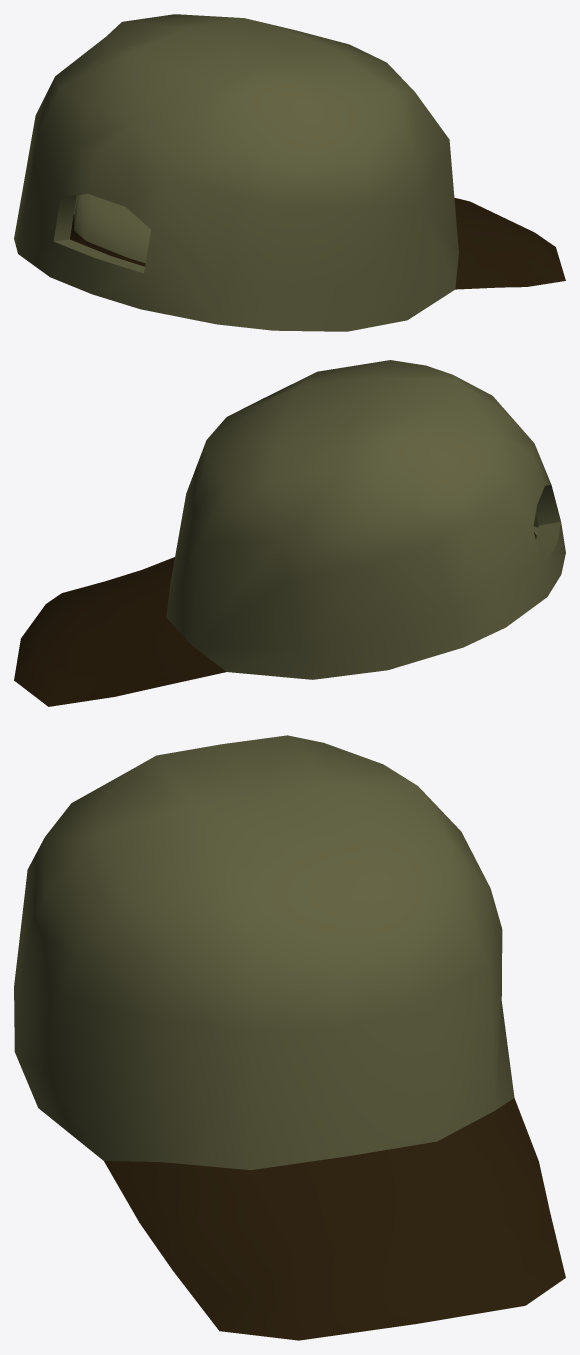
Rendered from cap_sideways.fbx.
3 views of the same model, one above another, from view 1: azimuth 30°, elevation 25°; view 2: azimuth 150°, elevation 25°; view 3: azimuth 270°, elevation 25° (orthographic). The views are drawn at different scales.
Parts seen in each view (by area): view 1: cap_backwards; view 2: cap_backwards; view 3: cap_backwards.
Part boxes in pixels (x1=…): cap_backwards: x1=14, y1=14, x2=565, y2=331; cap_backwards: x1=14, y1=360, x2=565, y2=706; cap_backwards: x1=14, y1=735, x2=565, y2=1340.
Size of the model in its own units: 20 by 10.99 by 15.21.
